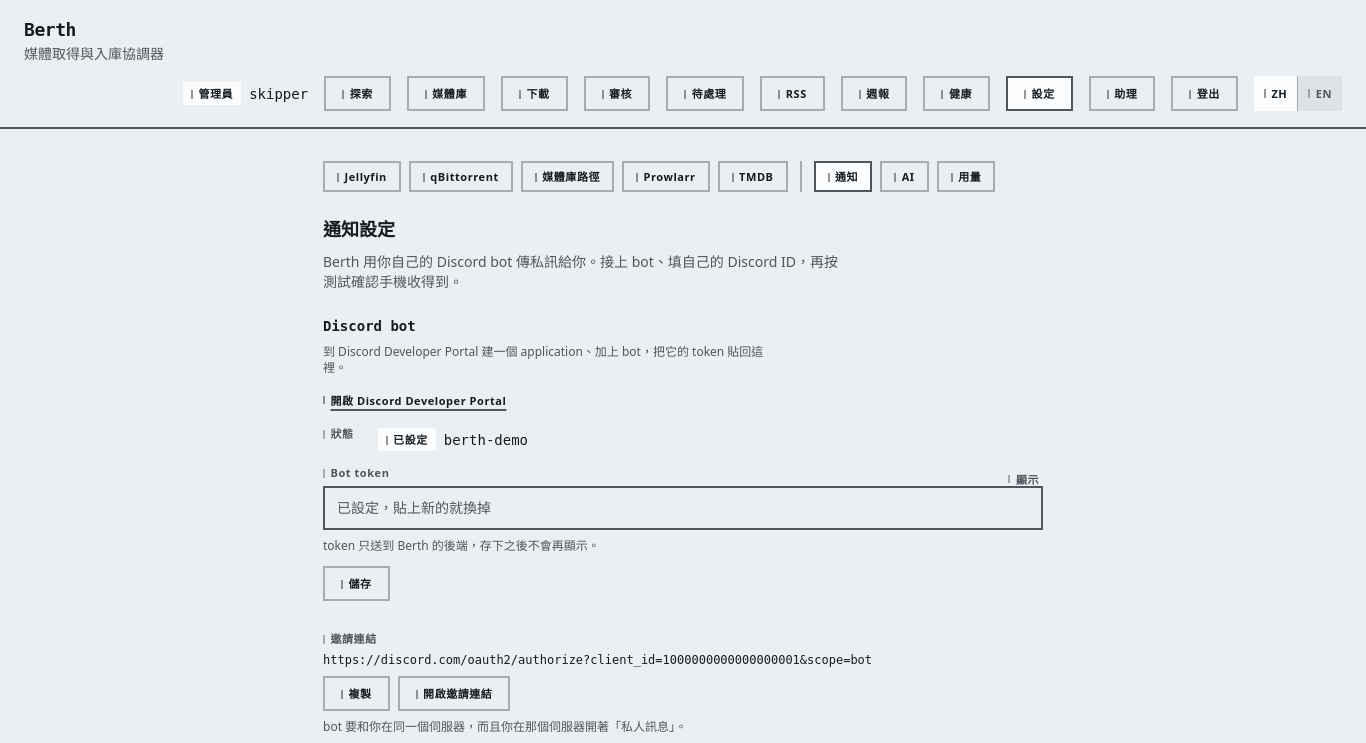
Test case: 設定 → 通知 › token 空著按儲存不送出（空字串在後端是清掉）
Expected: the text "berth-demo" is shown, [444,430,528,450]
Click the button "儲存": (356, 584) [323,566,390,601]
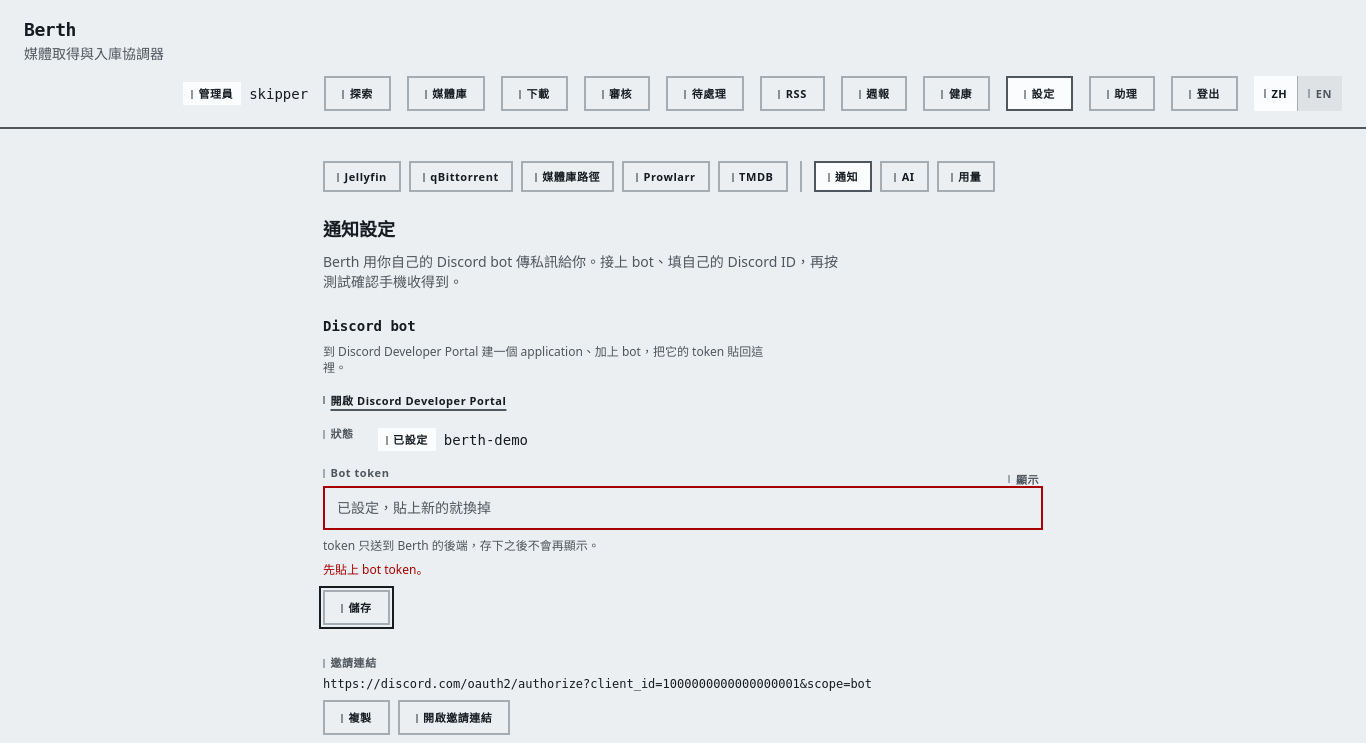
Expected: the text "先貼上 bot token。" is shown, [323,561,428,578]
